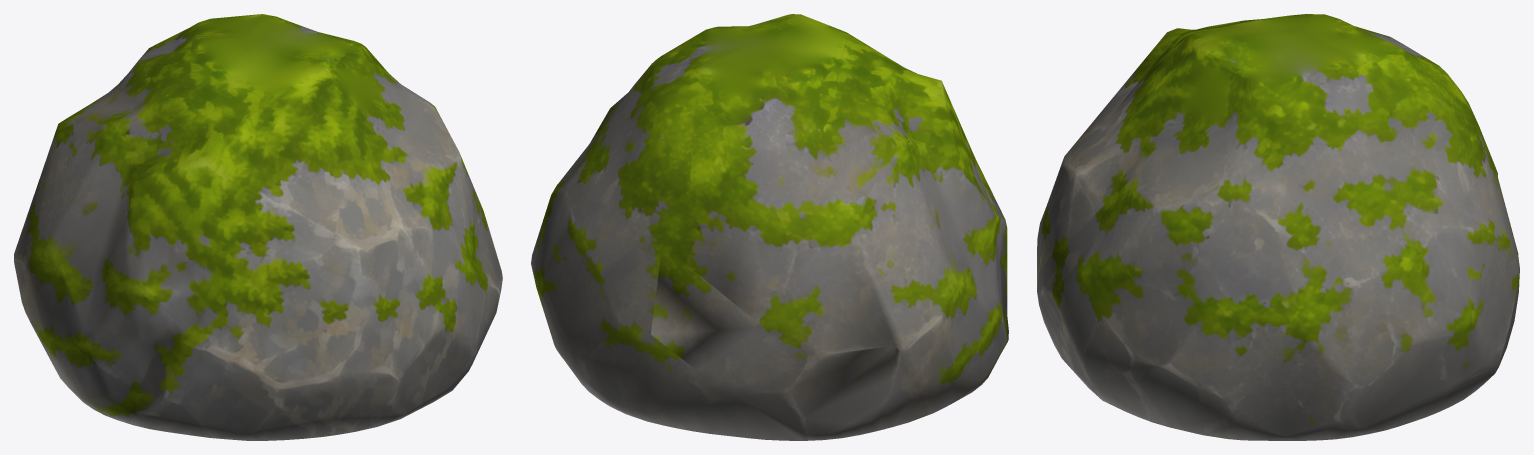
Rendered from rock_a.glb.
3 views of the same model, side by side, from view 1: azimuth 30°, elevation 25°; view 2: azimuth 150°, elevation 25°; view 3: azimuth 270°, elevation 25° (orthographic). The views are drawn at different scales.
Parts seen in each view (by area): view 1: material; view 2: material; view 3: material.
Part boxes in pixels (<box>): material: <box>14,14,502,440</box>; material: <box>531,14,1008,440</box>; material: <box>1037,14,1519,440</box>.
Bounding box in the file's own units: 1.89 × 1.37 × 1.9.
Materials: 1 (1 with a texture image).
